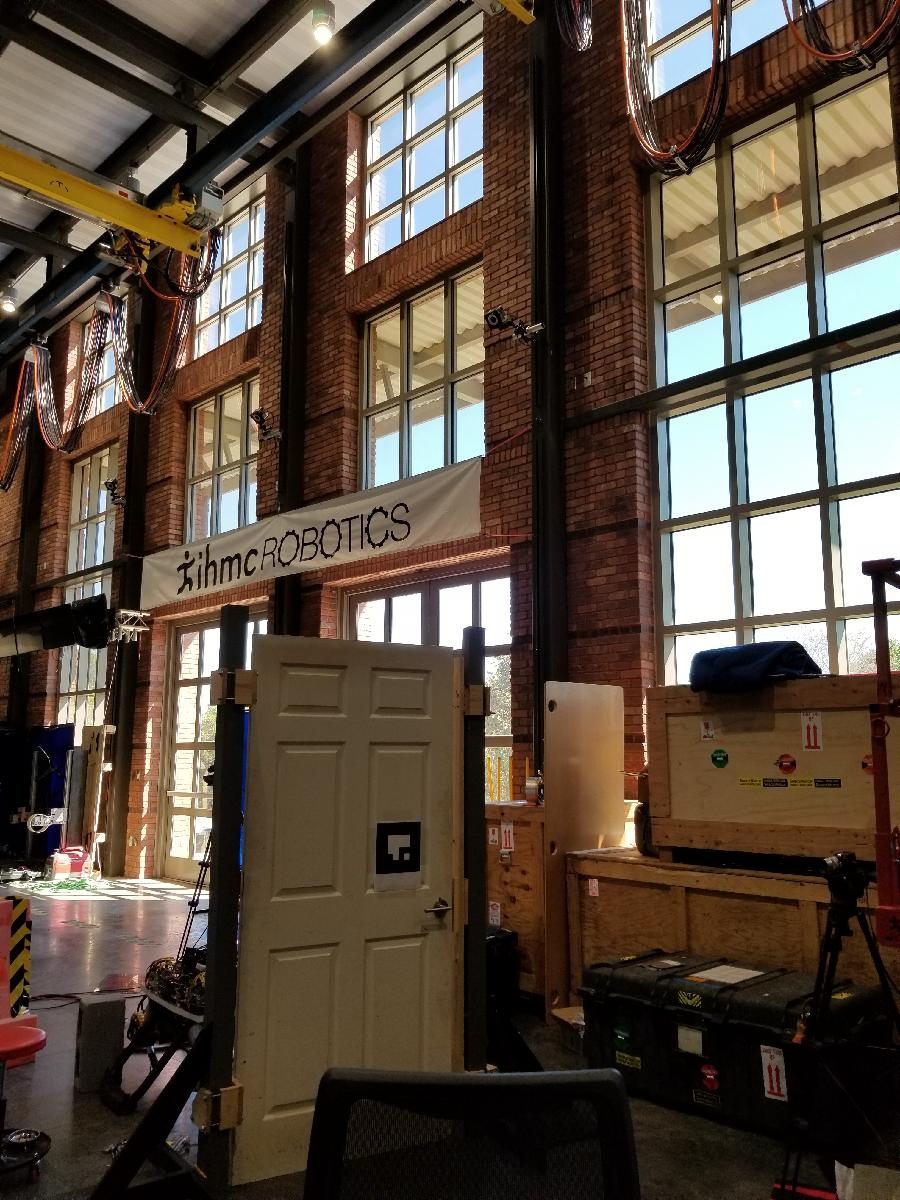door: (227, 631, 466, 1191)
doorHandle: (419, 890, 454, 922)
